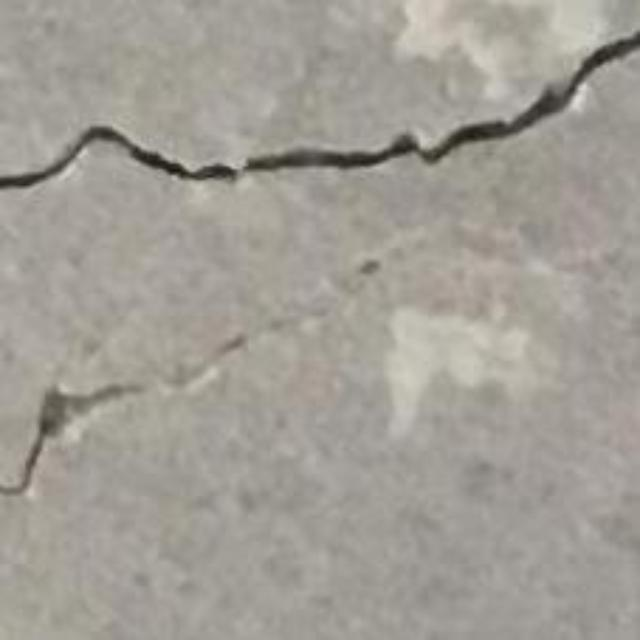crack: (0, 32, 639, 191)
peeling plaster: (398, 0, 606, 101)
